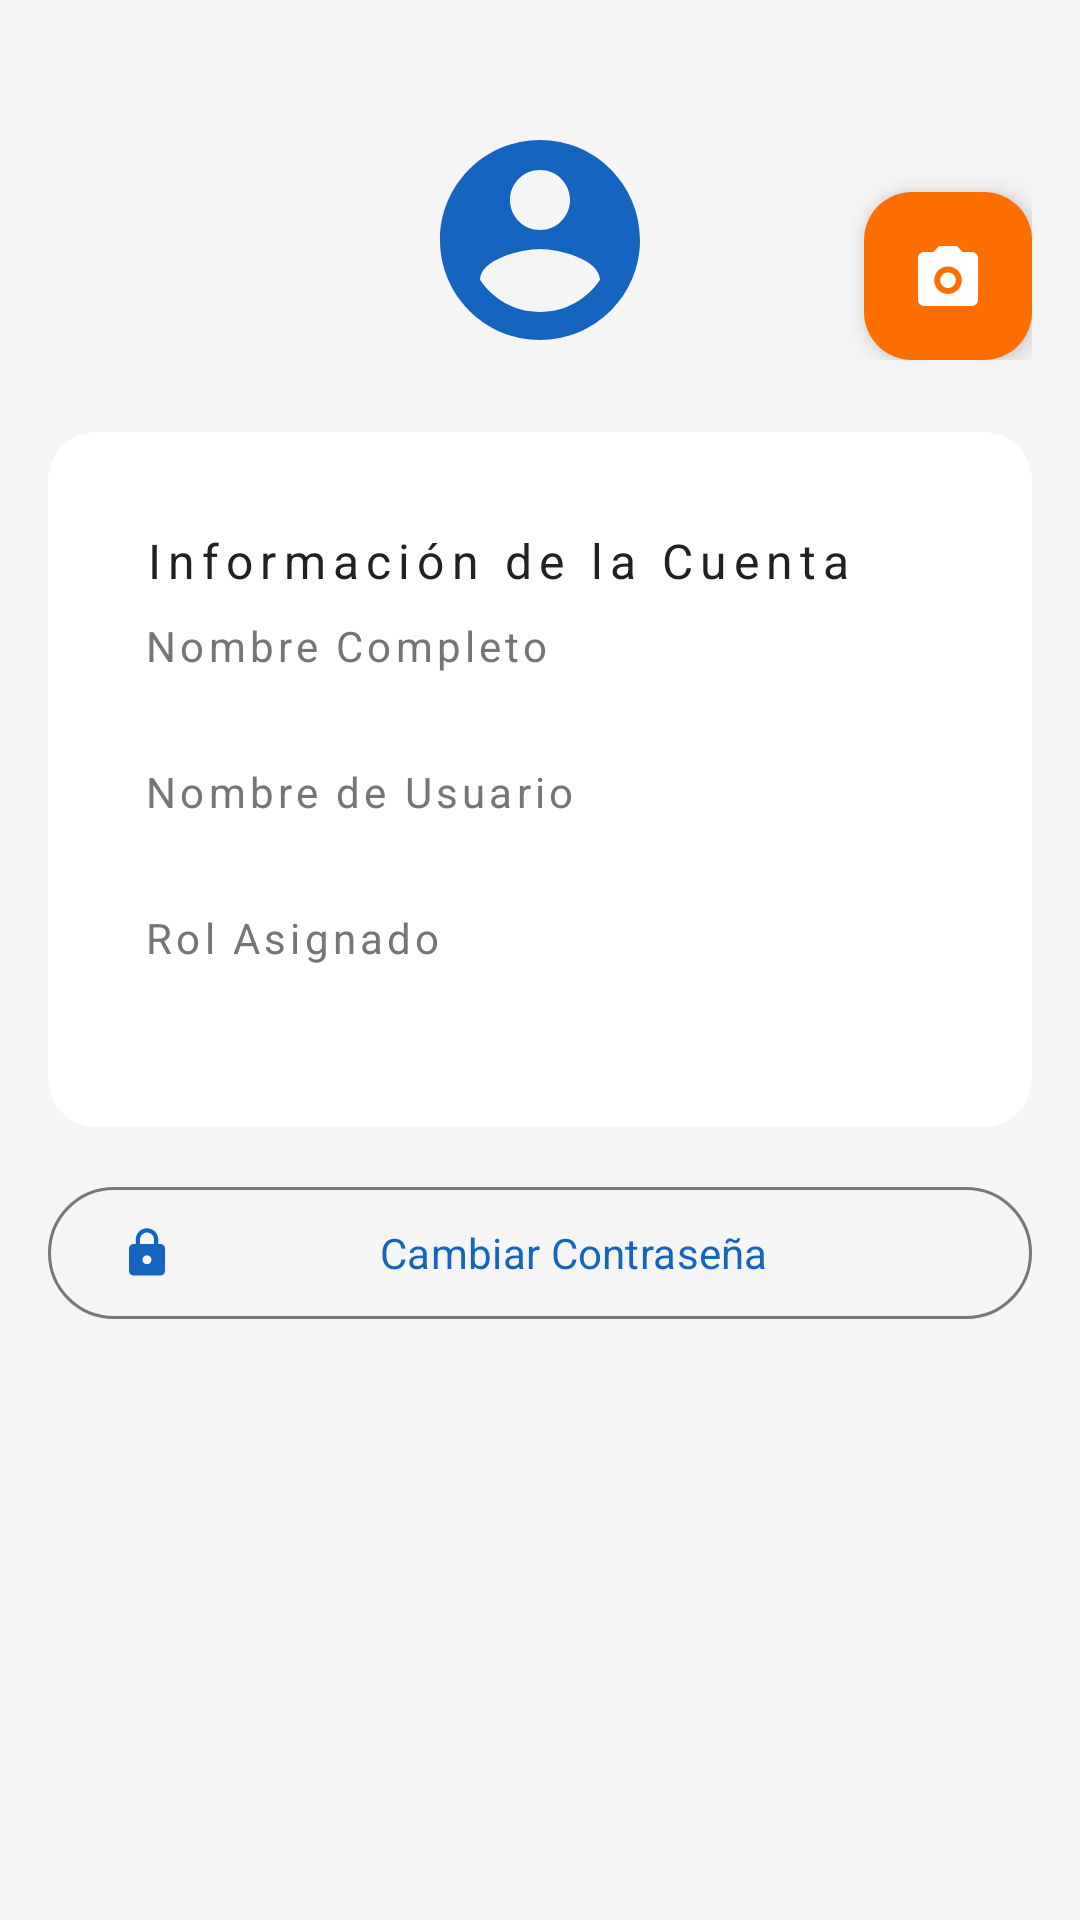

Where to tap for icons on this 1080×1920 app screen, as point (x, y):
Cambiar foto: point (948, 276)
Foto de perfil: point (540, 240)
